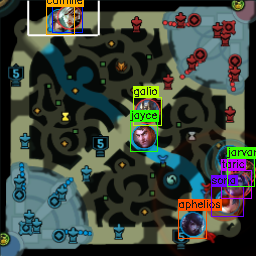aphelios: (180, 211, 205, 236)
camille: (47, 10, 71, 32)
galio: (135, 98, 159, 123)
jarvaniv: (233, 160, 256, 183)
jayce: (131, 124, 155, 147)
riven: (57, 5, 81, 28)
sona: (215, 189, 239, 211)
taric: (224, 172, 248, 197)
